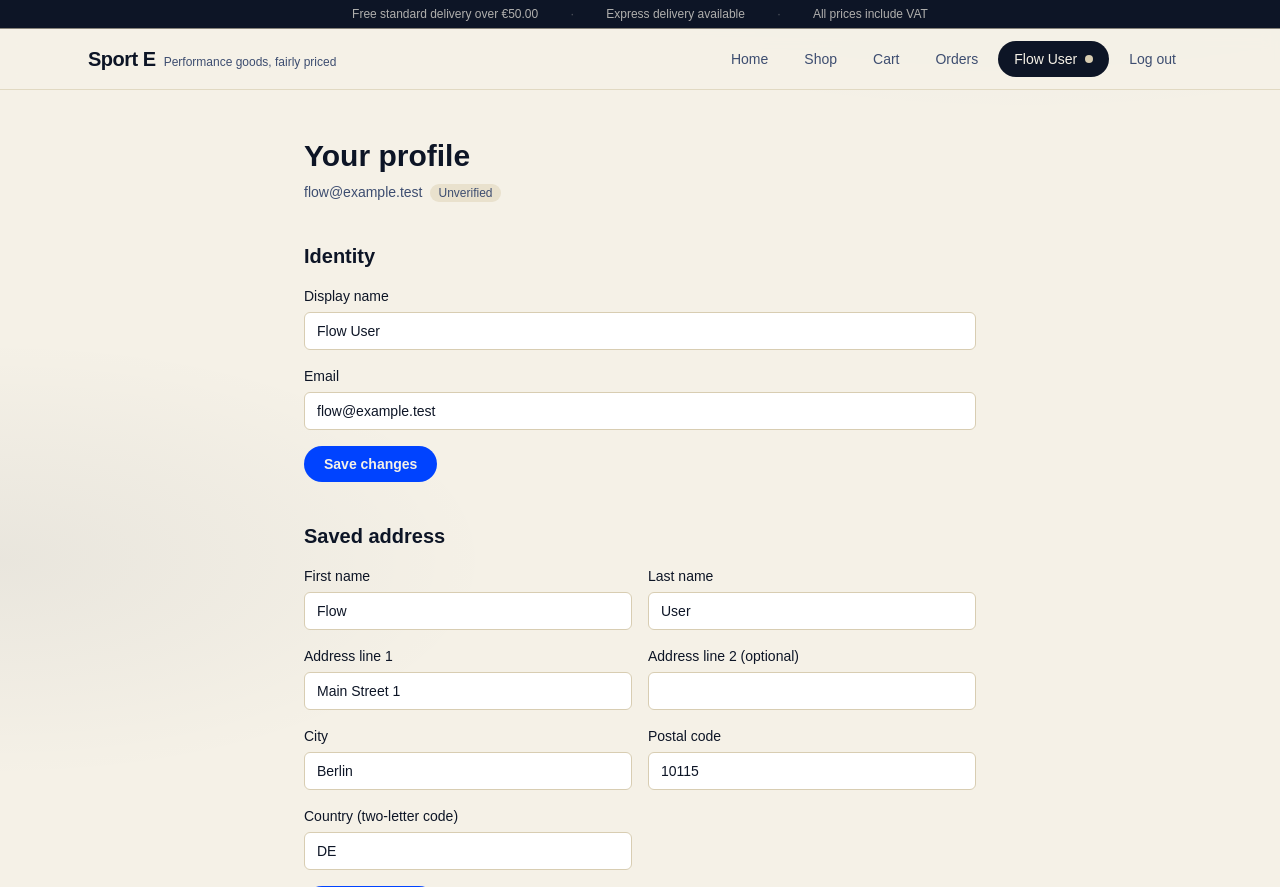
Test case: identity pages › sends an unconfirmed email change to the confirm-password page
Replace the text in the field labelled "Email" with "renamed@example.test": {"x": 640, "y": 411} [304, 392, 976, 430]
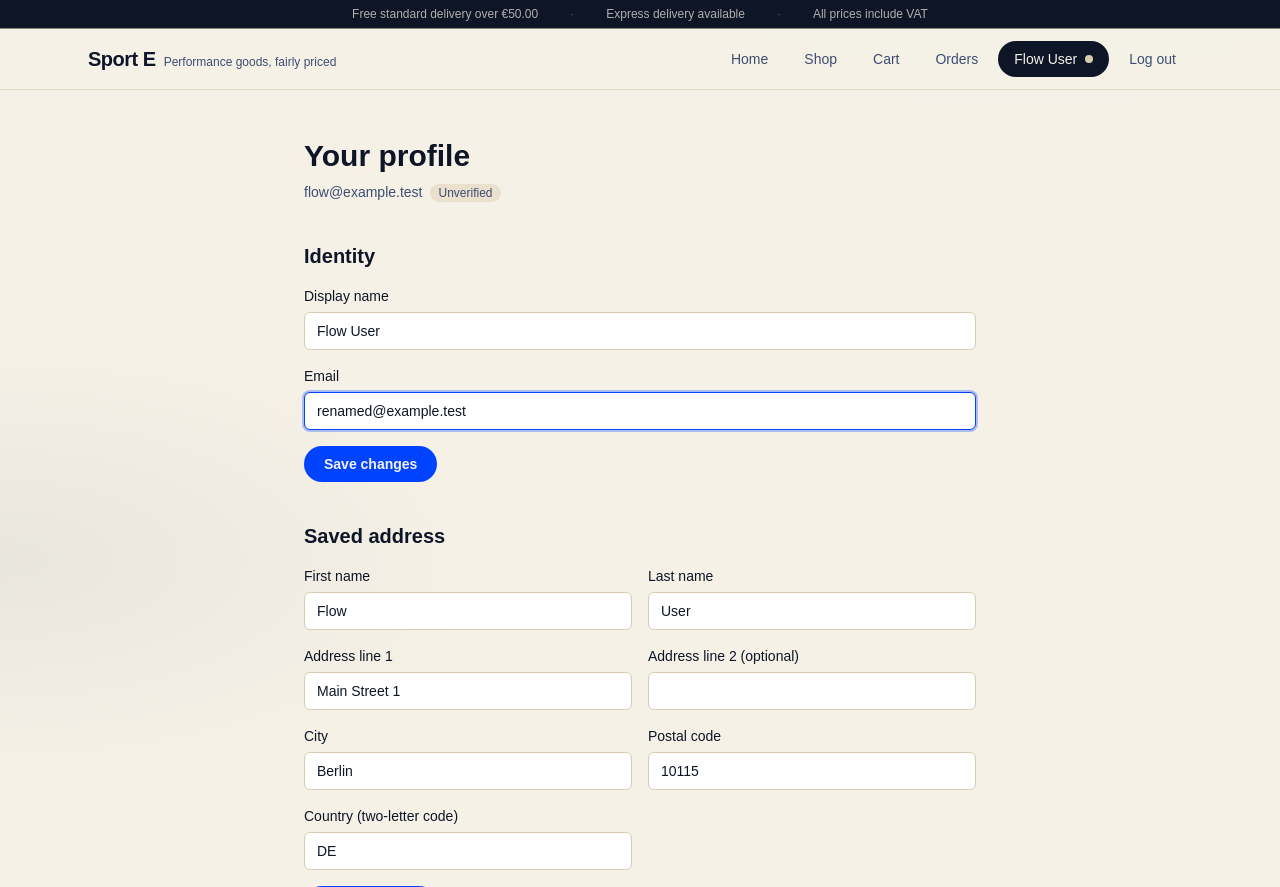
Click the button "Save changes" below "Email": {"x": 371, "y": 464} [304, 446, 437, 482]
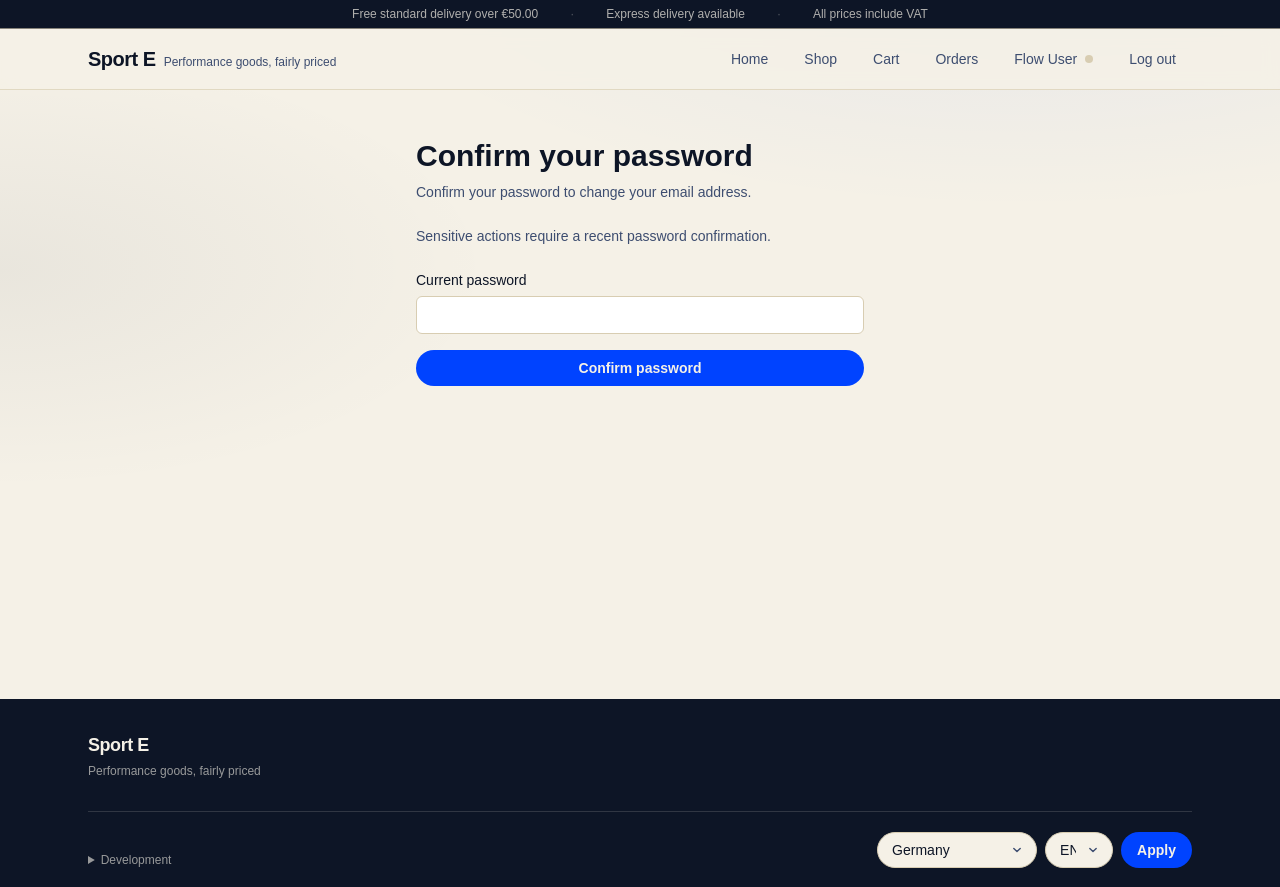
Now the heading "Confirm your password" is shown, box [416, 139, 753, 172]
Now the text "Confirm your password to change your email address." is shown, box [416, 184, 751, 200]
